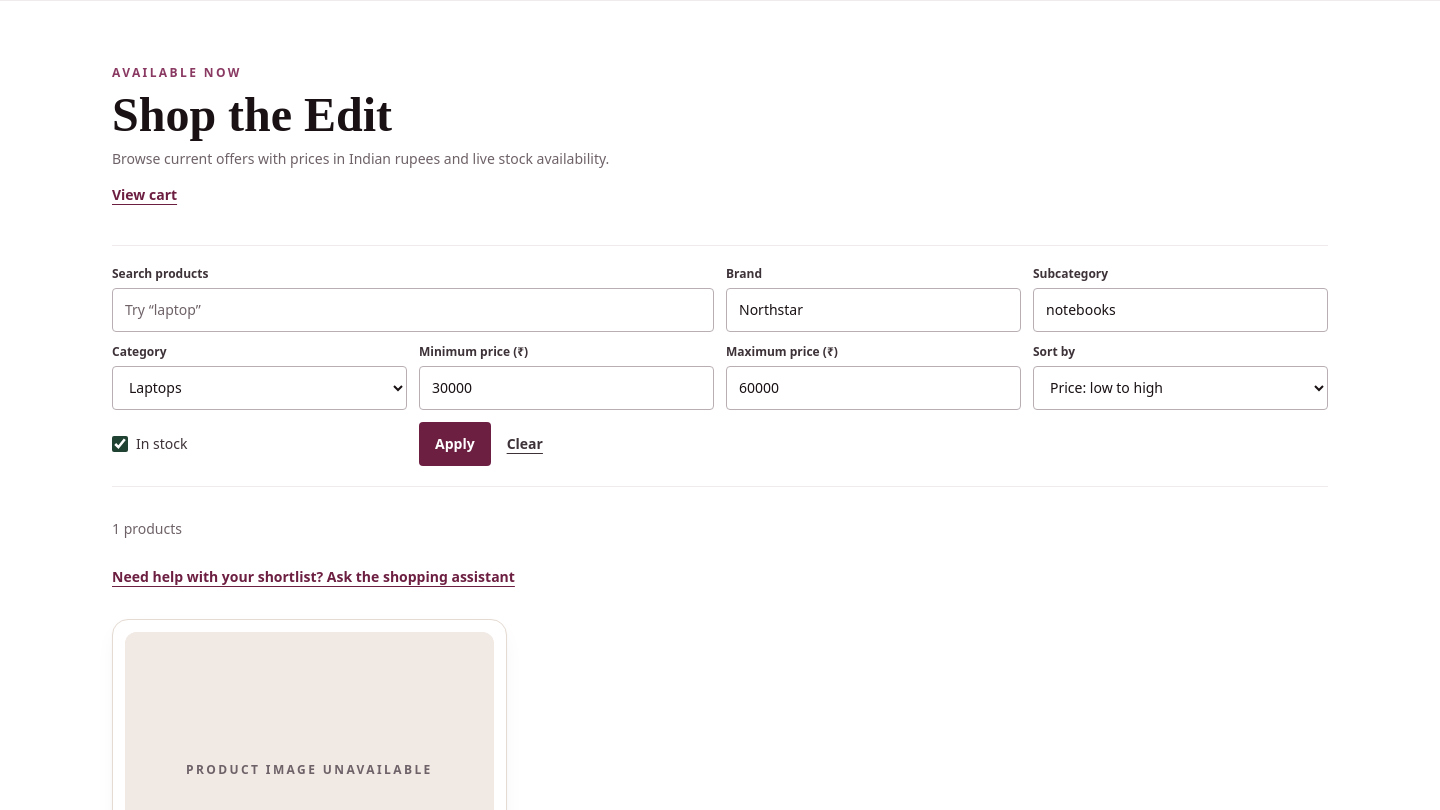
it: ProductCatalog › hydrates full shareable filters and restores browser history
expect the number field labelled "Minimum price (₹)" holds "30000": met, box [419,366,714,410]
expect the number field labelled "Maximum price (₹)" holds "60000": met, box [726,366,1021,410]
Step 1. Click the button "Clear" → (525, 444), box [499,422,551,466]
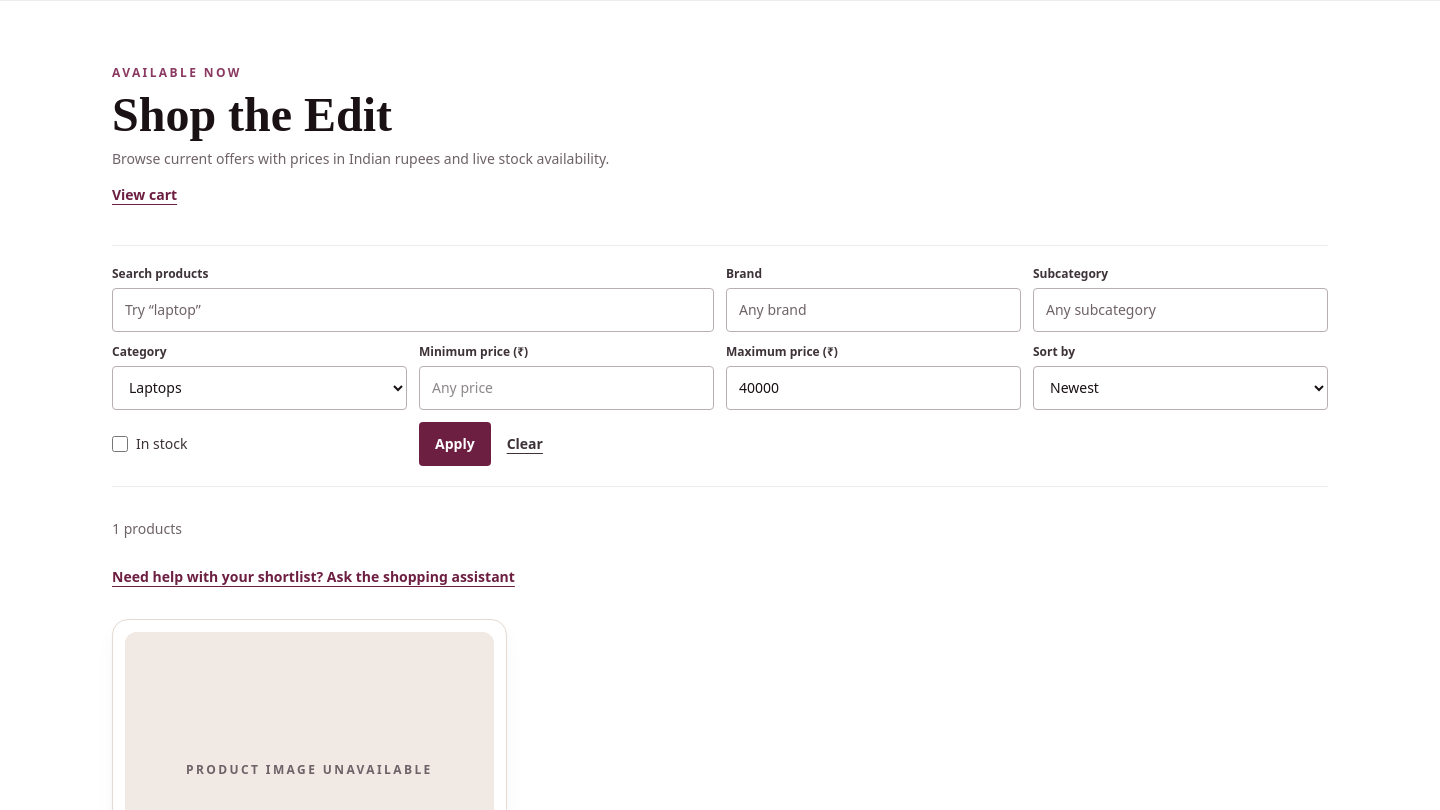
expect the number field labelled "Maximum price (₹)" holds "40000": met, box [726,366,1021,410]
